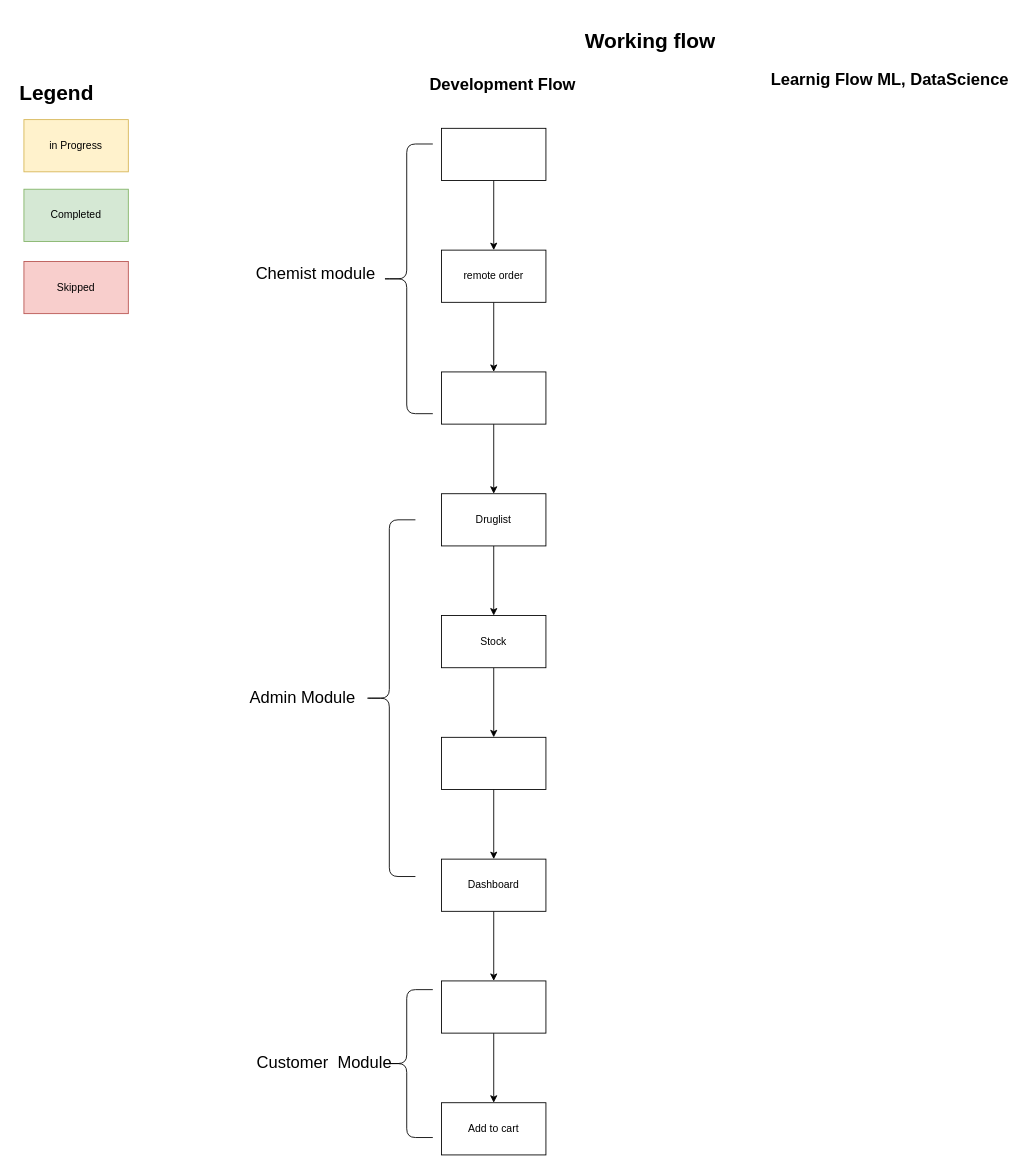
Image size: 1030x1170. Some labels were removed from this diagram. The centre of each missing label's shape, as x and y in pixels:
Forecast: point 493,763
invoice: point 493,154
order history: point 493,397
product page: point 493,1006
